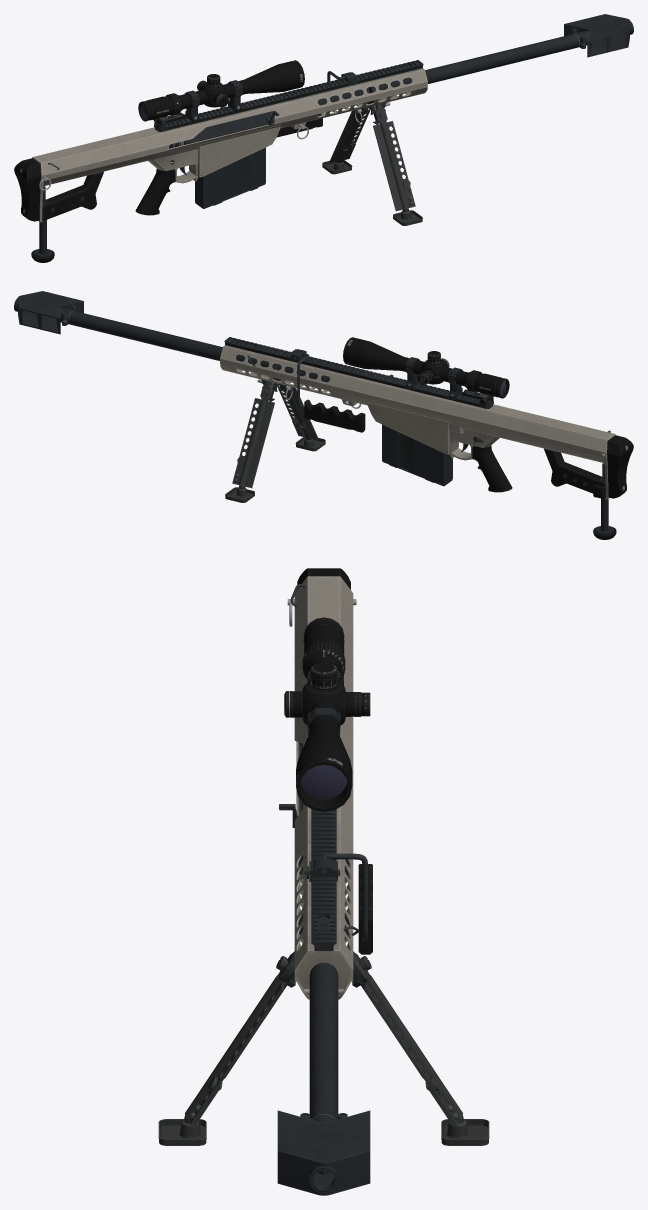
Rendered from barrett.glb.
3 views of the same model, one above another, from view 1: azimuth 30°, elevation 25°; view 2: azimuth 150°, elevation 25°; view 3: azimuth 270°, elevation 25° (orthographic). The views are drawn at different scales.
Parts seen in each view (by area): view 1: base, base_2, base_3, scope, mag, bipodR, bipodL, bolt; view 2: base, base_2, base_3, scope, mag, bipodL, bipodR; view 3: base_3, base, scope, base_2, bipodR, bipodL.
Boxes of the visible parts, x1,y1,x2,y2 form: base: [32, 68, 427, 222]; base_2: [14, 60, 423, 262]; base_3: [317, 14, 633, 105]; scope: [138, 60, 304, 122]; mag: [195, 147, 265, 208]; bipodR: [373, 104, 422, 225]; bipodL: [322, 110, 370, 174]; bolt: [168, 111, 279, 148]; base: [220, 345, 615, 499]; base_2: [224, 337, 633, 539]; base_3: [14, 291, 330, 382]; scope: [343, 337, 509, 399]; mag: [382, 424, 452, 486]; bipodL: [225, 381, 274, 502]; bipodR: [277, 387, 325, 451]; base_3: [277, 855, 370, 1195]; base: [294, 576, 353, 999]; scope: [284, 617, 370, 811]; base_2: [286, 568, 372, 987]; bipodR: [158, 951, 294, 1145]; bipodL: [353, 951, 489, 1145].
Size of the model in its own units: 1.47 by 0.3603 by 0.3449.
5 materials, 5 textured.
